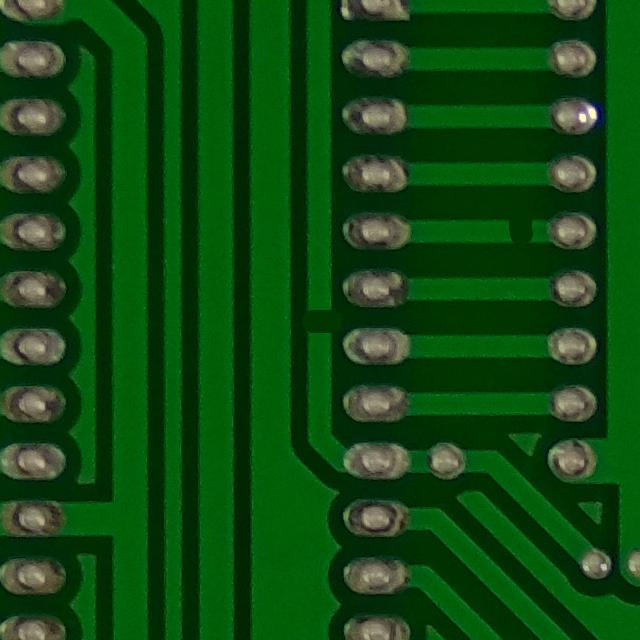open_circuit: (299, 297, 341, 343)
